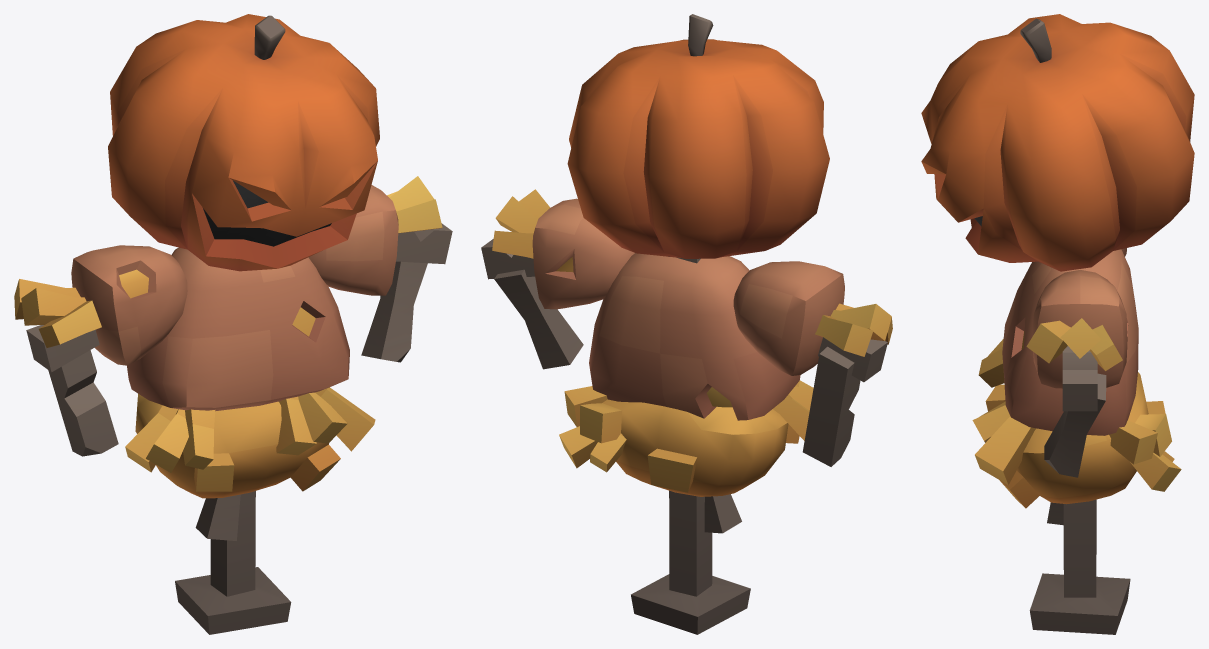
Rendered from decor_scarecrow.glb.
3 renders of one model, left to right at view 1: azimuth 30°, elevation 25°; view 2: azimuth 150°, elevation 25°; view 3: azimuth 270°, elevation 25°, orthographic. The views are drawn at different scales.
Visible parts, largest first — view 1: scarecrow; view 2: scarecrow; view 3: scarecrow.
Part boxes in pixels (x1,y1,x2,y2): scarecrow: [14, 14, 452, 634]; scarecrow: [481, 14, 892, 634]; scarecrow: [921, 14, 1194, 634].
Size of the model in its own units: 1.67 by 2.33 by 0.9573.
1 material, 1 textured.
